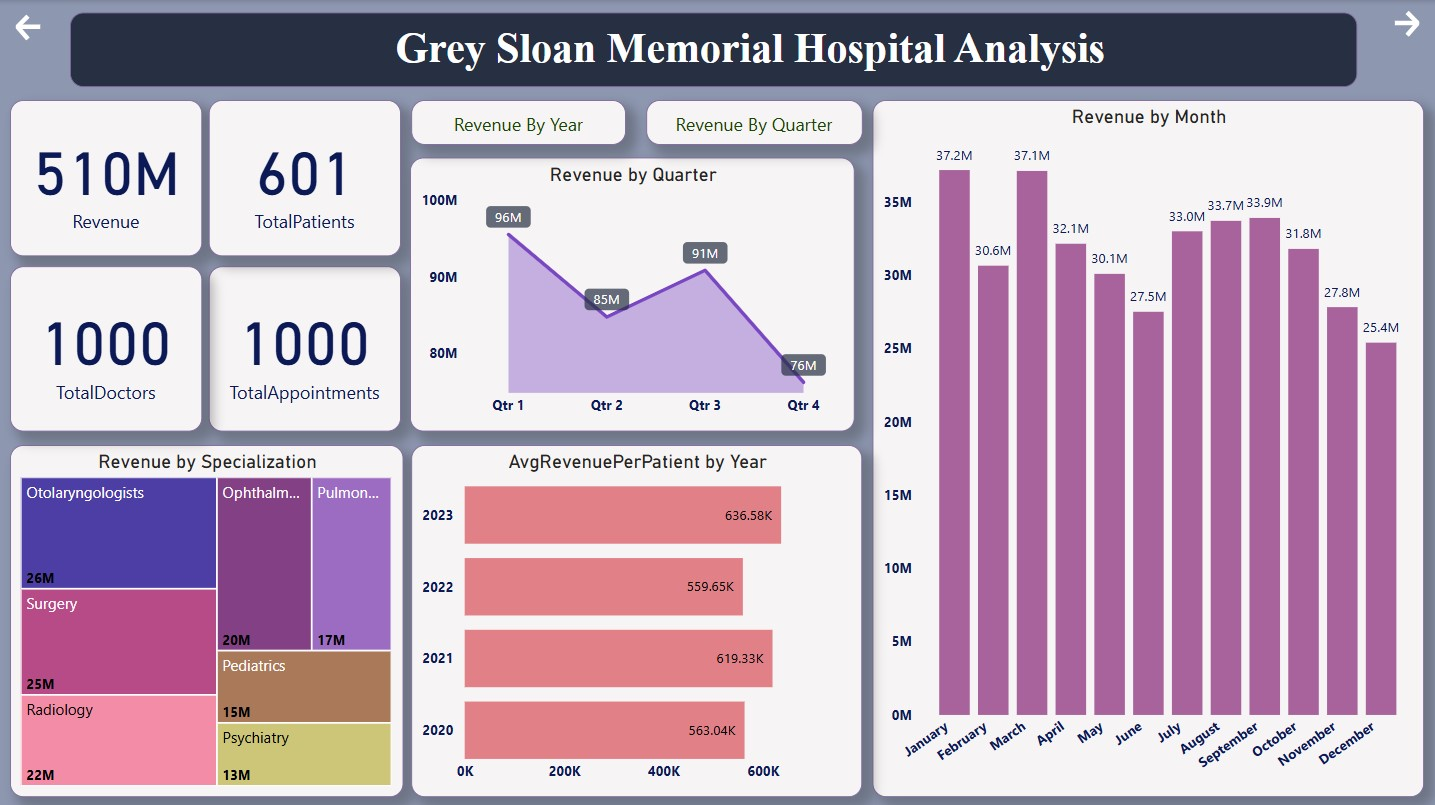

What the dashboard file says about the page in this screenshot:
{"tool":"powerbi","page":{"name":"Patient Revenue","canvas":[1280,720],"ordinal":1},"visuals":[{"type":"clusteredColumnChart","title":"Revenue  by Month","fields":{"Category":["Appointment.Date.Variation.Date Hierarchy.Month"],"Y":["Sum(Billing.Amount)"]},"box":[776.9,89.2,491.2,621],"z":0},{"type":"card","fields":{"Values":["Appointment.Revenue"]},"box":[8.9,89.1,171.4,139.1],"z":1000},{"type":"card","fields":{"Values":["Appointment.TotalAppointments"]},"box":[185.9,237.1,171.4,146.9],"z":3000},{"type":"treemap","title":"Revenue by Specialization","fields":{"Group":["Doctor.Specialization"],"Values":["Appointment.RevenueByDoctor"]},"box":[8.4,395.8,350.1,314],"z":4000},{"type":"card","fields":{"Values":["Appointment.TotalDoctors"]},"box":[8.9,237.1,171.4,146.9],"z":5000},{"type":"card","fields":{"Values":["Appointment.TotalPatients"]},"box":[185.9,89.1,171.4,139.1],"z":6000},{"type":"areaChart","title":"Revenue  by Quarter","fields":{"Category":["Appointment.Date.Variation.Date Hierarchy.Quarter"],"Y":["Sum(Billing.Amount)"]},"box":[365.3,139.8,396,244],"z":7000},{"type":"textbox","box":[62.3,11.1,1146.6,66.8],"z":8000},{"type":"actionButton","title":"Revenue by ","box":[365.7,89,191.3,39.7],"z":9000},{"type":"actionButton","title":"Revenue by ","box":[575,89,192.5,39.7],"z":10000},{"type":"barChart","fields":{"Category":["Appointment.Date.Variation.Date Hierarchy.Year"],"Y":["Appointment.AvgRevenuePerPatient"]},"box":[365.7,395.8,401.8,314],"z":11000},{"type":"actionButton","box":[1236.7,6,31.3,31.3],"z":12000},{"type":"actionButton","box":[9.6,8.4,31.3,31.3],"z":13000}]}

Visuals, with their boxes in screenshot pixels (x1, y1, x2, y2), scaled from the page's 1280x720 canvas onto the 1435x805 screenshot:
"Revenue  by Month" clusteredColumnChart: bbox=[871, 100, 1422, 794]
card - Appointment.Revenue: bbox=[10, 100, 202, 255]
card - Appointment.TotalAppointments: bbox=[208, 265, 401, 429]
"Revenue by Specialization" treemap: bbox=[9, 443, 402, 794]
card - Appointment.TotalDoctors: bbox=[10, 265, 202, 429]
card - Appointment.TotalPatients: bbox=[208, 100, 401, 255]
"Revenue  by Quarter" areaChart: bbox=[410, 156, 853, 429]
textbox: bbox=[70, 12, 1355, 87]
"Revenue by " actionButton: bbox=[410, 100, 624, 144]
"Revenue by " actionButton: bbox=[645, 100, 860, 144]
barChart - Appointment.Date.Variation.Date Hierarchy.Year x Appointment.AvgRevenuePerPatient: bbox=[410, 443, 860, 794]
actionButton: bbox=[1386, 7, 1422, 42]
actionButton: bbox=[11, 9, 46, 44]
